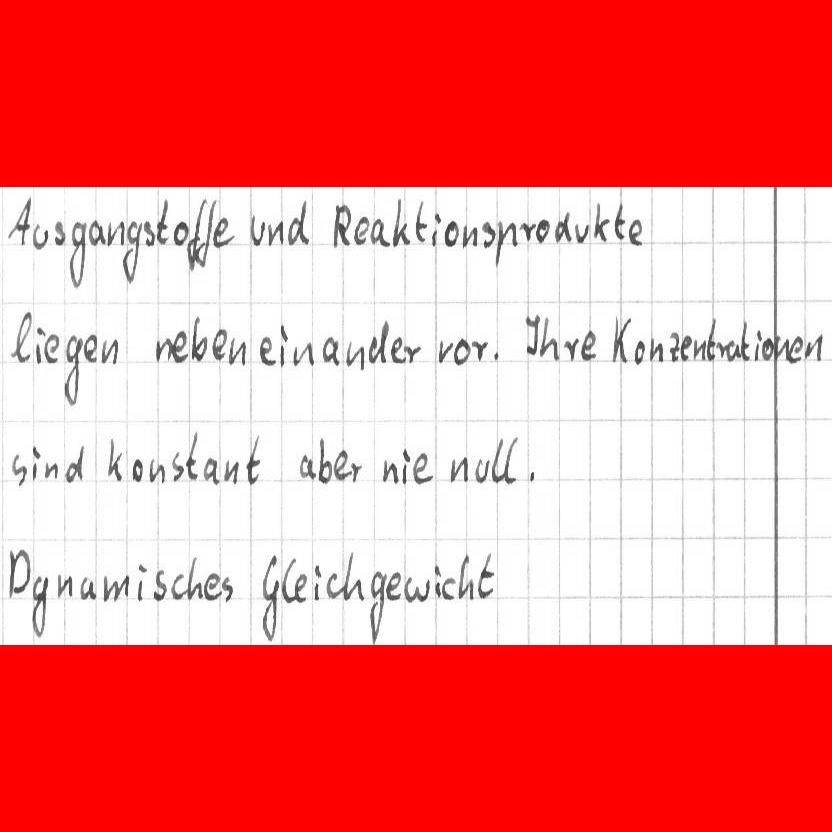Char: (256, 554, 280, 642), (365, 568, 387, 647), (62, 334, 84, 409), (4, 547, 31, 600), (121, 220, 142, 286), (8, 308, 33, 363), (30, 575, 51, 640), (67, 218, 86, 289), (196, 198, 215, 267), (7, 193, 32, 245), (185, 198, 202, 269), (286, 198, 310, 246), (493, 219, 516, 268), (367, 317, 388, 367), (539, 315, 561, 362), (100, 573, 133, 604), (610, 313, 630, 363), (344, 550, 363, 601), (330, 203, 351, 249), (456, 553, 476, 601), (63, 443, 86, 484), (475, 551, 495, 598), (391, 198, 410, 247), (190, 314, 209, 362), (522, 313, 541, 358), (211, 215, 236, 249), (246, 434, 263, 484), (502, 434, 519, 484), (317, 436, 333, 485), (106, 437, 123, 482), (184, 431, 199, 482), (410, 451, 433, 484), (591, 200, 609, 242), (404, 575, 431, 603), (292, 340, 318, 369), (154, 198, 170, 245), (281, 556, 296, 604), (187, 557, 203, 601), (552, 209, 572, 244), (369, 215, 390, 247), (414, 199, 429, 243), (489, 437, 503, 484), (322, 334, 341, 368), (345, 340, 365, 372), (203, 571, 223, 603), (227, 335, 247, 366), (448, 455, 470, 483), (580, 328, 597, 364), (11, 452, 28, 488), (803, 333, 824, 362), (332, 449, 351, 481), (381, 457, 401, 486), (249, 213, 266, 247), (259, 334, 277, 366), (388, 334, 406, 366), (211, 326, 227, 361), (147, 456, 167, 484), (297, 452, 317, 480), (152, 566, 168, 601), (740, 319, 753, 362), (352, 215, 370, 246), (384, 570, 402, 601), (172, 326, 187, 363), (99, 337, 118, 366), (135, 561, 148, 603), (278, 322, 290, 367), (454, 335, 472, 365), (429, 210, 443, 248), (612, 202, 626, 240), (55, 571, 74, 599), (43, 331, 59, 364), (267, 220, 285, 249), (78, 574, 98, 600), (88, 217, 105, 247), (170, 571, 187, 601), (705, 318, 716, 364), (107, 219, 125, 247), (562, 335, 580, 363), (436, 337, 455, 363), (31, 221, 48, 250), (627, 217, 644, 246), (33, 325, 45, 366), (774, 334, 790, 364), (399, 446, 411, 486), (442, 219, 459, 247), (294, 573, 309, 604), (155, 335, 172, 362), (312, 561, 323, 602), (84, 333, 99, 363), (170, 451, 184, 483), (218, 576, 234, 604), (441, 575, 458, 601), (481, 220, 496, 249), (788, 335, 803, 364), (173, 219, 189, 246), (632, 338, 648, 365), (29, 444, 41, 480), (474, 457, 490, 484), (130, 456, 145, 484), (203, 456, 218, 484), (223, 459, 239, 485), (470, 339, 488, 362), (679, 333, 693, 362), (649, 336, 664, 363), (325, 572, 340, 599), (402, 342, 421, 363), (518, 220, 536, 242), (667, 330, 679, 363), (52, 218, 65, 247), (462, 224, 477, 249), (432, 562, 442, 599), (536, 218, 550, 244), (574, 222, 590, 244), (725, 339, 741, 361), (44, 458, 59, 481), (752, 329, 762, 363), (143, 219, 155, 247), (761, 336, 774, 360), (343, 461, 357, 483), (692, 338, 705, 361), (714, 339, 727, 360), (488, 347, 501, 363), (528, 468, 537, 486)
